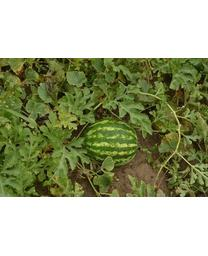watermelon: (84, 118, 141, 169)
